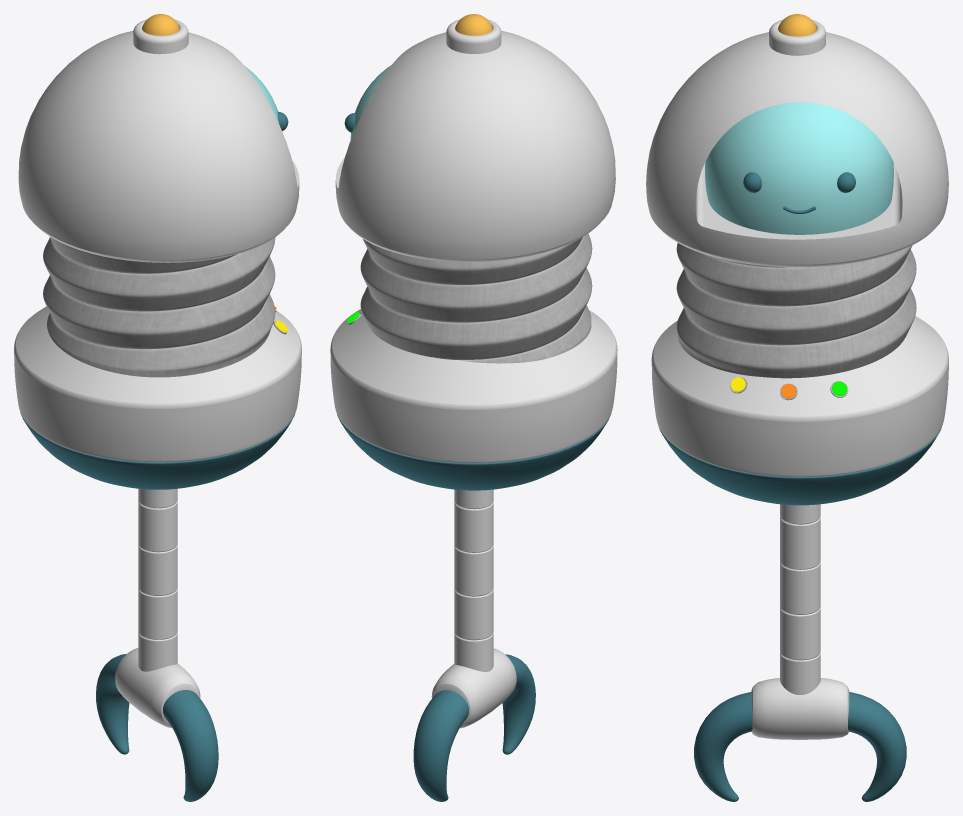
Rendered from Fur body.glb.
3 renders of one model, left to right at view 1: azimuth 30°, elevation 25°; view 2: azimuth 150°, elevation 25°; view 3: azimuth 270°, elevation 25°, orthographic. The views are drawn at different scales.
Parts seen in each view (by area): view 1: Fabric_Body; view 2: Fabric_Body; view 3: Fabric_Body.
Boxes of the visible parts, left/top/right/bottom form: Fabric_Body: left=14, top=14, right=301, bottom=801; Fabric_Body: left=330, top=14, right=617, bottom=801; Fabric_Body: left=646, top=14, right=948, bottom=801.
Bounding box in the file's own units: 0.7671 × 2.24 × 0.7818.
1 material, 1 textured.
